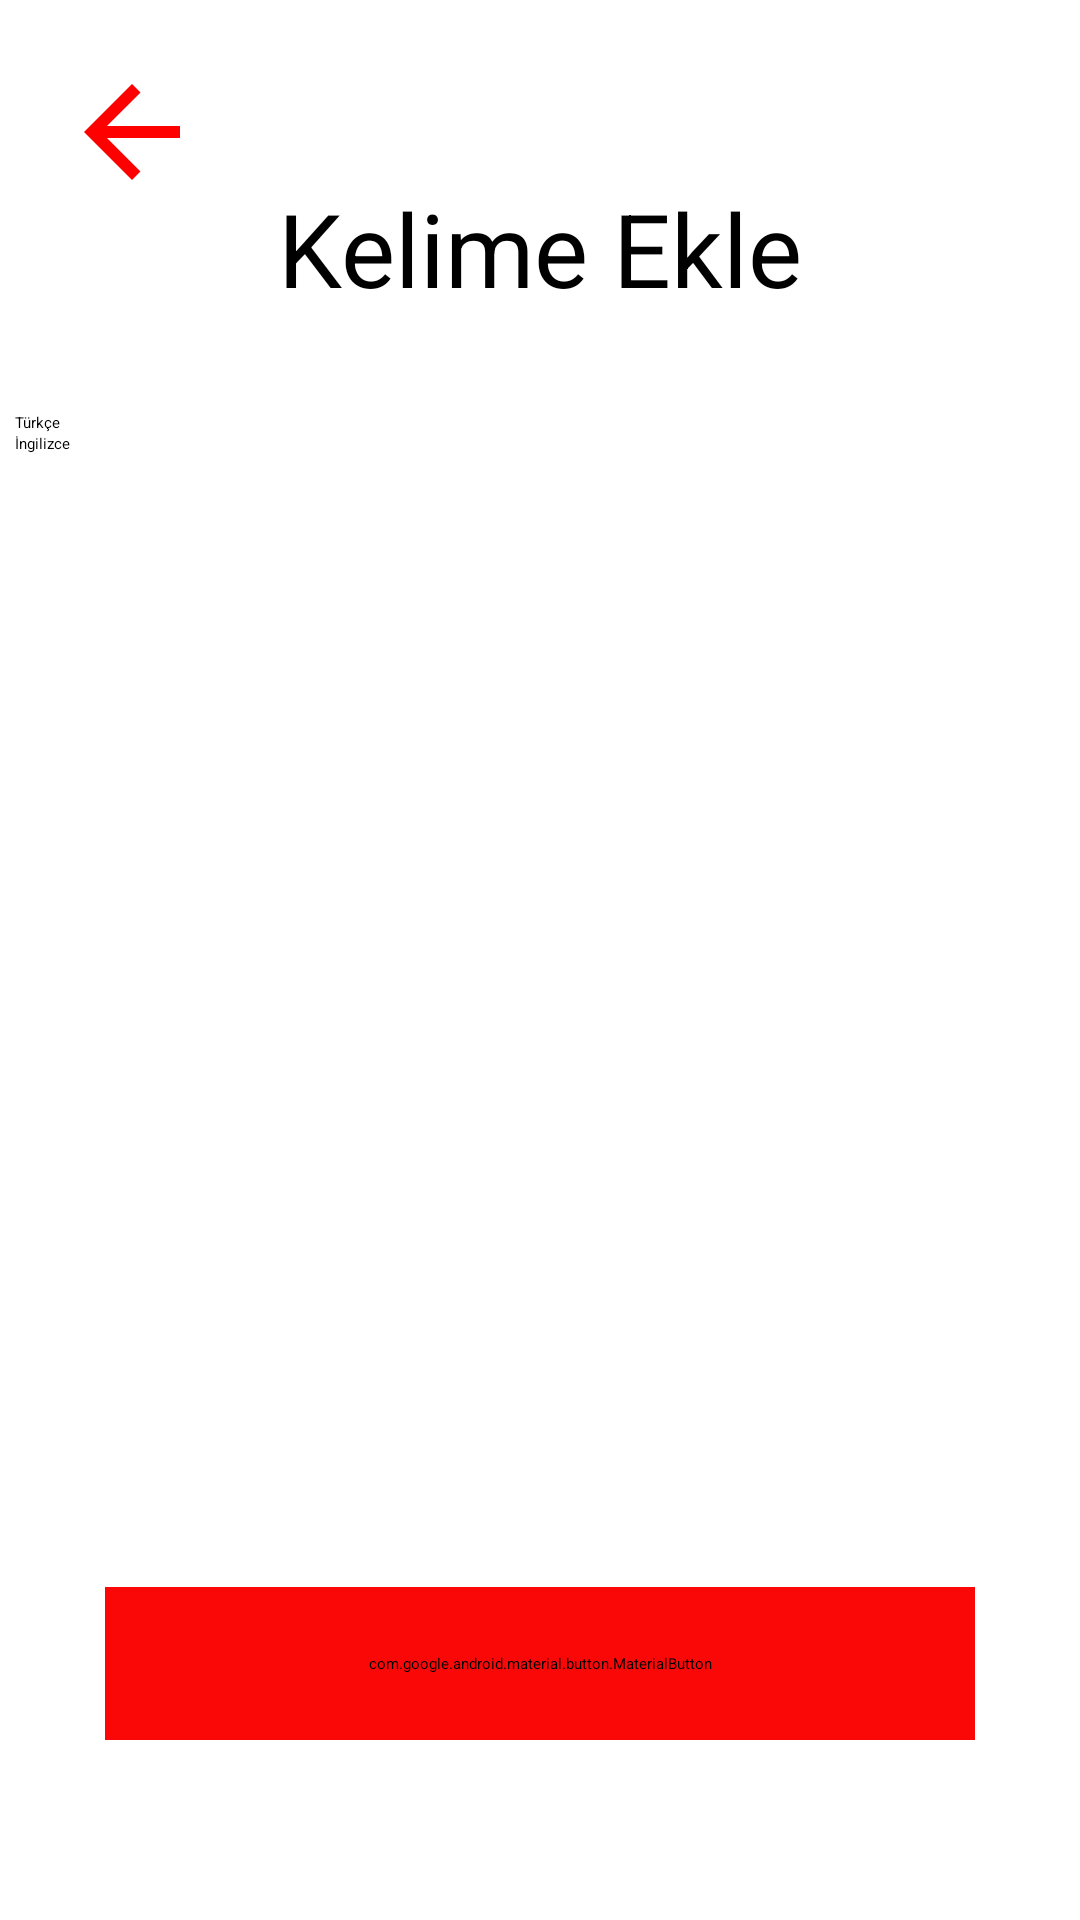

Screen size 1080x1920. Icon name, then its box in pixels as {"x1": x1, "y1": y1, "x2": x2, "y2": y2}:
arrow back: {"x1": 84, "y1": 84, "x2": 180, "y2": 180}
